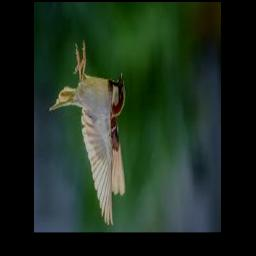Sparrow: (49, 41, 127, 225)
